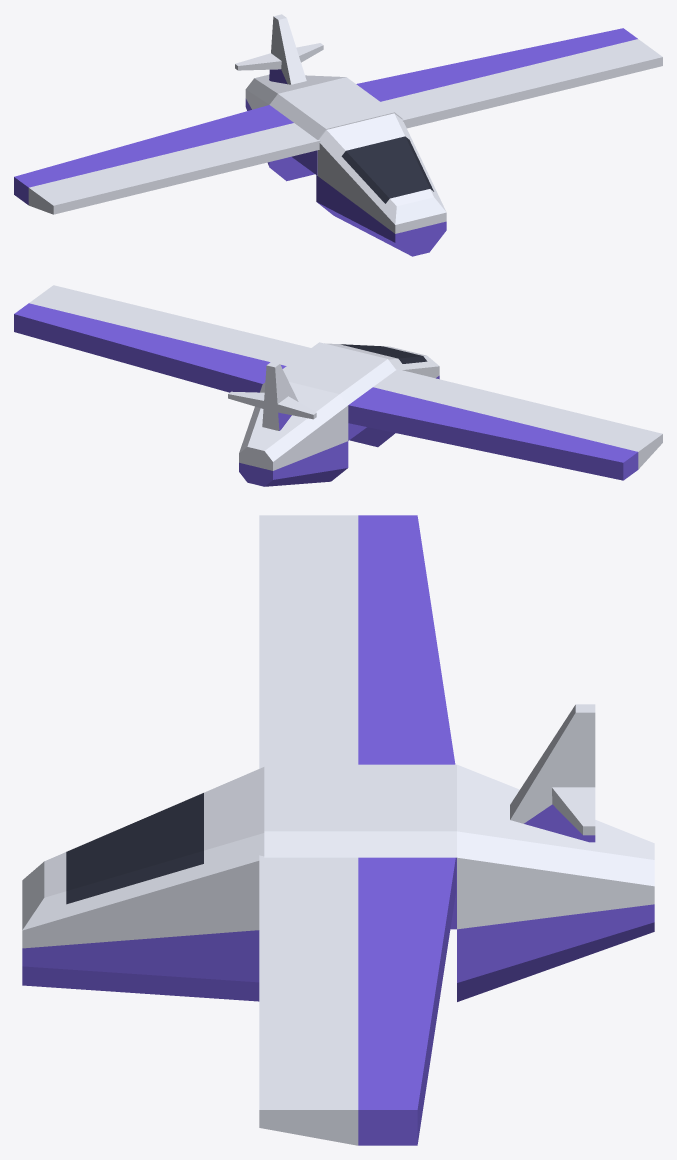
Rendered from fighter.fbx.
3 views of the same model, one above another, from view 1: azimuth 30°, elevation 25°; view 2: azimuth 150°, elevation 25°; view 3: azimuth 270°, elevation 25° (orthographic). The views are drawn at different scales.
Visible parts, largest first — view 1: mergedBlocks; view 2: mergedBlocks; view 3: mergedBlocks.
Boxes of the visible parts, <box> form: mergedBlocks: <box>14,14,662,256</box>; mergedBlocks: <box>14,285,662,486</box>; mergedBlocks: <box>22,515,654,1145</box>.
Bounding box in the file's own units: 35.6 × 7.5 × 16.
